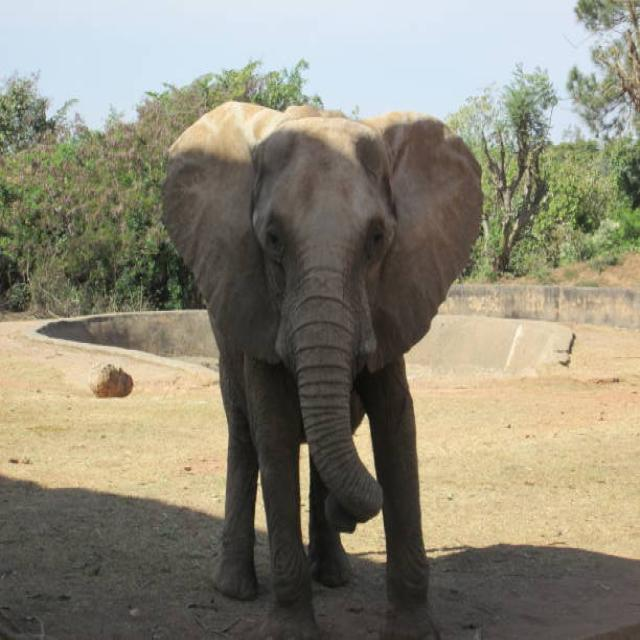Elephant: (149, 71, 520, 632)
